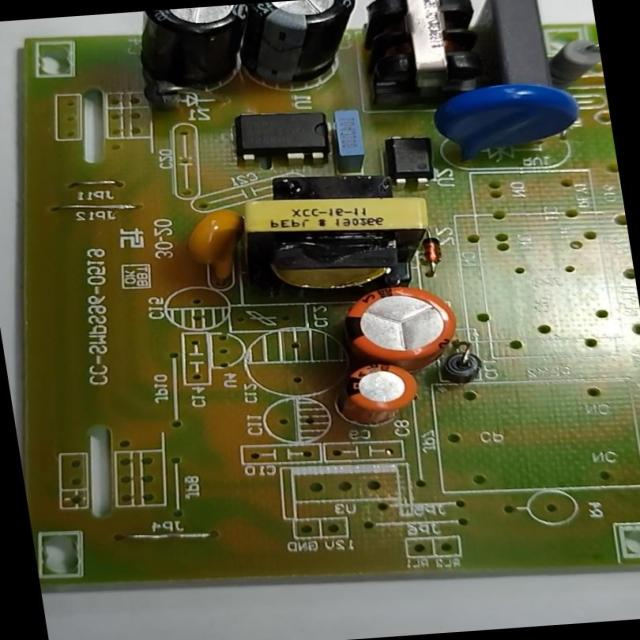Cap1: (324, 276, 470, 378)
Cap2: (316, 354, 441, 438)
Cap3: (238, 0, 370, 100)
Cap4: (127, 3, 273, 110)
MOSFET: (215, 100, 343, 176)
Mov: (418, 76, 602, 180)
Resistor: (533, 35, 605, 94)
Transformer: (207, 161, 460, 319), (341, 0, 524, 118)
